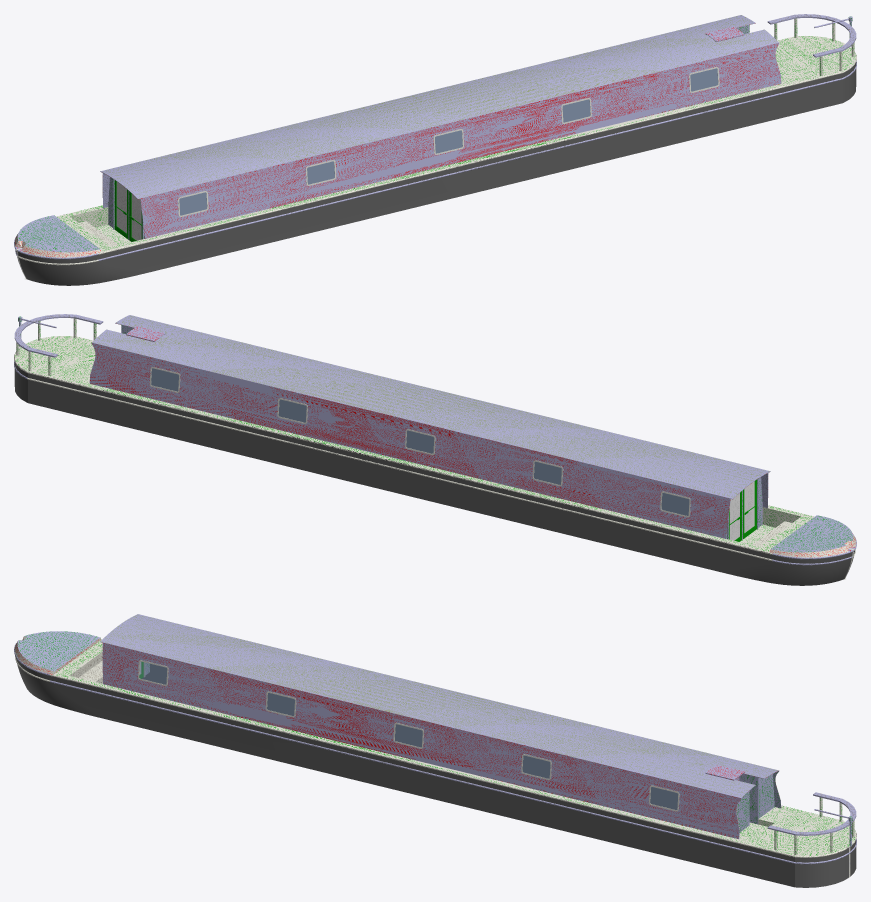
The model's file is narrowboat1.fbx.
3 renders of one model, top to bottom at view 1: azimuth 30°, elevation 25°; view 2: azimuth 150°, elevation 25°; view 3: azimuth 330°, elevation 25°, orthographic.
Visible parts, largest first — view 1: narrowboat; view 2: narrowboat; view 3: narrowboat.
Part boxes in pixels (left/top/right/bottom): narrowboat: left=14, top=14, right=856, bottom=285; narrowboat: left=14, top=314, right=856, bottom=585; narrowboat: left=14, top=614, right=856, bottom=887.
Bounding box in the file's own units: 415 × 35.49 × 42.04.
11 materials, 1 textured.
